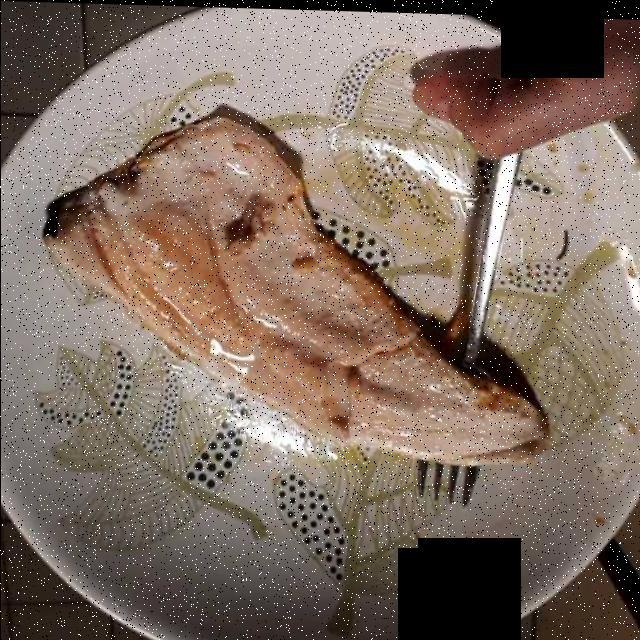fish: (51, 115, 537, 454)
